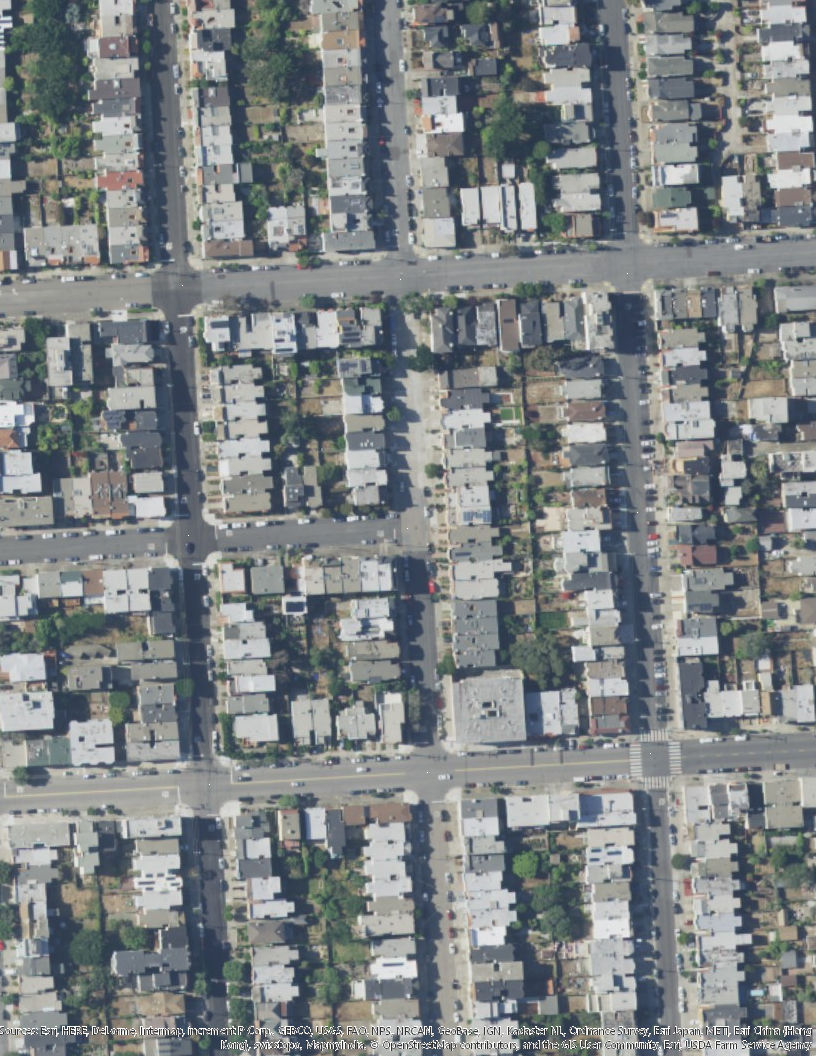zebracross: (667, 740, 683, 774), (629, 743, 644, 776), (639, 727, 671, 742), (644, 773, 669, 791)
